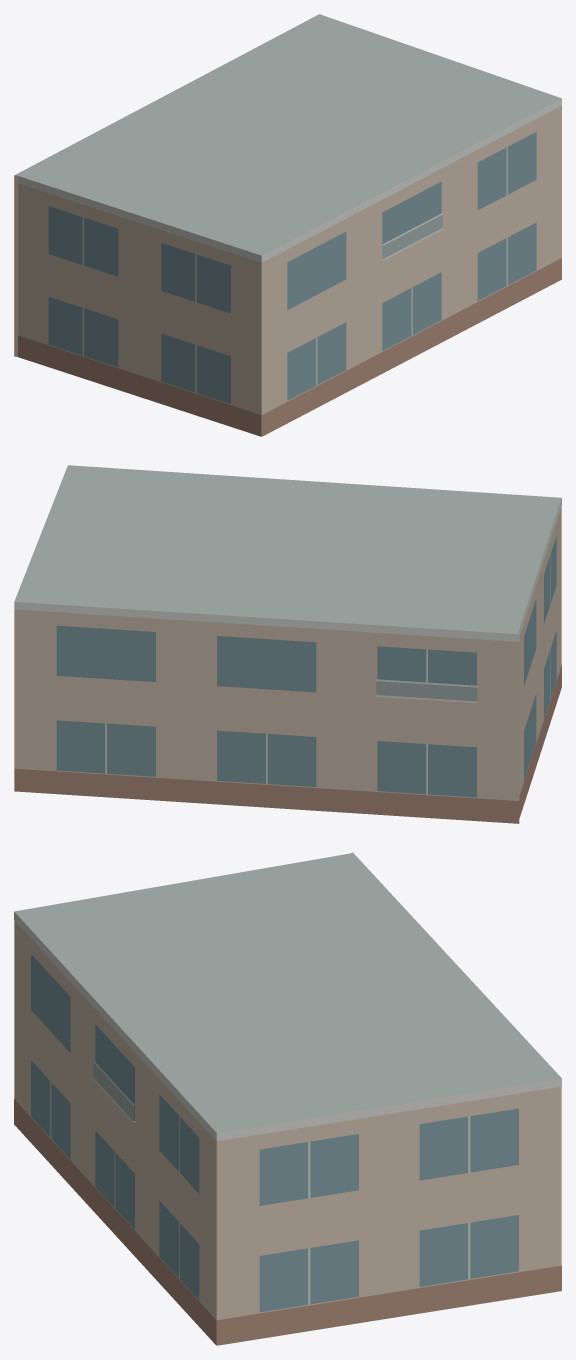
Rendered from survey-upis-33017981.glb.
3 renders of one model, top to bottom at view 1: azimuth 30°, elevation 25°; view 2: azimuth 150°, elevation 25°; view 3: azimuth 270°, elevation 25°, orthographic. The views are drawn at different scales.
Parts seen in each view (by area): view 1: survey-upis-33017981.tmp; view 2: survey-upis-33017981.tmp; view 3: survey-upis-33017981.tmp.
Boxes of the visible parts, bbox=[...] form: survey-upis-33017981.tmp: bbox=[14, 14, 561, 436]; survey-upis-33017981.tmp: bbox=[14, 465, 561, 823]; survey-upis-33017981.tmp: bbox=[14, 852, 561, 1345].
Bounding box in the file's own units: 17.26 × 6.1 × 14.24.
